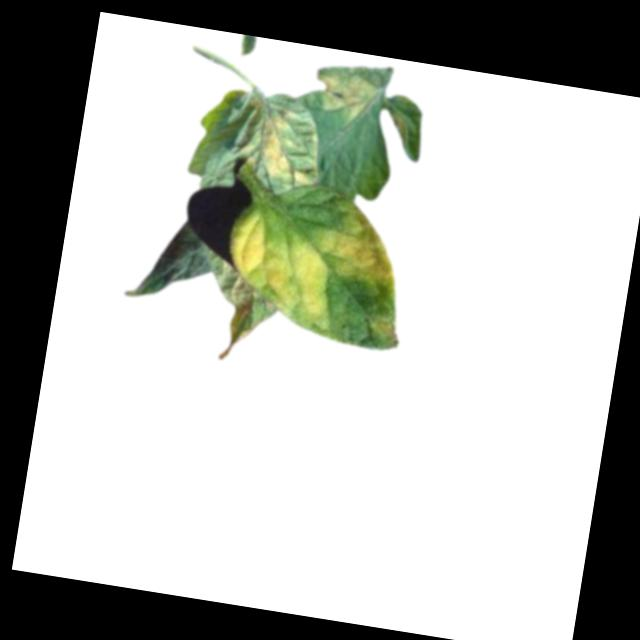Leaf_Mold: (215, 180, 417, 343), (236, 96, 327, 195), (317, 68, 380, 124)
